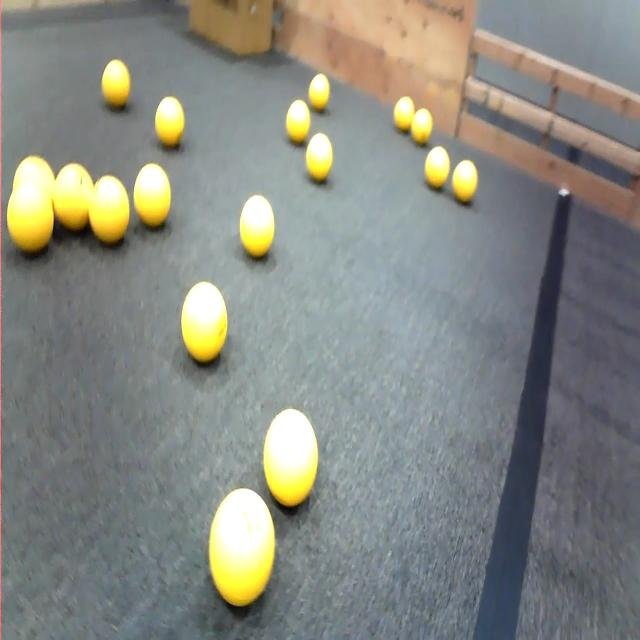fuel: (209, 488, 275, 607), (264, 408, 317, 507), (181, 281, 227, 363), (7, 182, 54, 253), (89, 176, 129, 244), (53, 163, 93, 231), (133, 163, 171, 228), (240, 195, 274, 258), (12, 155, 55, 196), (155, 96, 184, 147), (102, 60, 130, 108), (306, 133, 332, 182), (452, 160, 477, 203), (286, 99, 310, 143), (425, 146, 449, 189), (308, 73, 330, 111), (411, 108, 432, 145), (394, 96, 415, 131)
